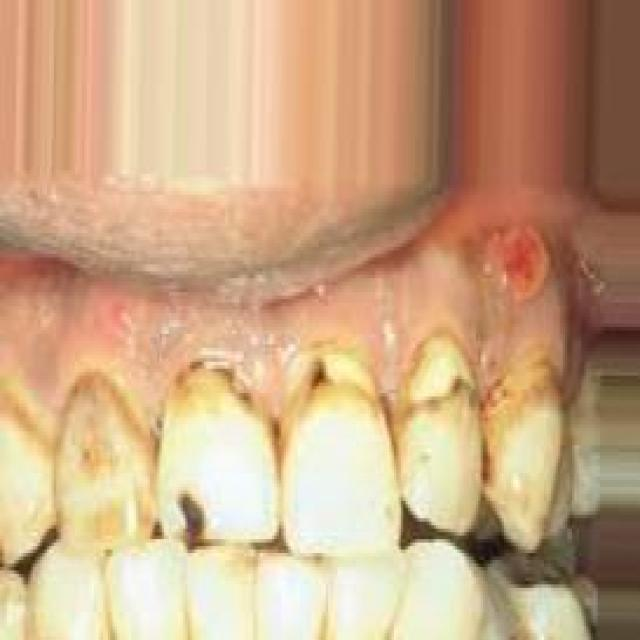caries: (279, 335, 381, 425), (162, 338, 255, 412), (409, 335, 482, 421), (164, 478, 227, 556)
